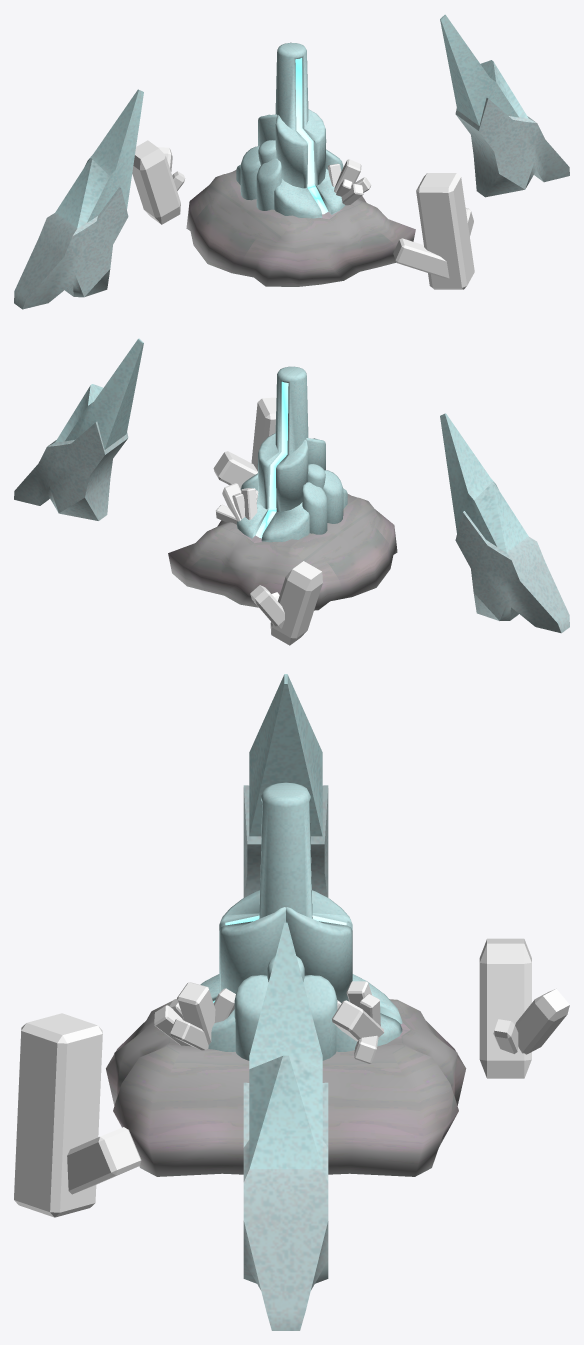
Rendered from JudgeShrine.fbx.
The picture shows the model from 3 angles, top to bottom: view 1: azimuth 30°, elevation 25°; view 2: azimuth 150°, elevation 25°; view 3: azimuth 270°, elevation 25°; orthographic projection. The views are drawn at different scales.
Parts seen in each view (by area): view 1: meshJudgeShrineProngs, meshJudgeShrineBase, meshJudgeShrine, meshJudgeShrineCrystals; view 2: meshJudgeShrineProngs, meshJudgeShrineBase, meshJudgeShrine, meshJudgeShrineCrystals; view 3: meshJudgeShrineProngs, meshJudgeShrineBase, meshJudgeShrineCrystals, meshJudgeShrine.
Boxes of the visible parts, x1,y1,x2,y2 form: meshJudgeShrineProngs: (14, 14, 569, 309); meshJudgeShrineBase: (186, 170, 415, 286); meshJudgeShrine: (236, 42, 345, 218); meshJudgeShrineCrystals: (132, 140, 474, 289); meshJudgeShrineProngs: (14, 338, 569, 633); meshJudgeShrineBase: (168, 494, 397, 610); meshJudgeShrine: (236, 366, 347, 542); meshJudgeShrineCrystals: (213, 397, 322, 645); meshJudgeShrineProngs: (243, 674, 328, 1330); meshJudgeShrineBase: (106, 999, 466, 1176); meshJudgeShrineCrystals: (14, 938, 569, 1217); meshJudgeShrine: (200, 782, 402, 1060).
Size of the model in its own units: 5.67 by 2.07 by 3.01.
Materials: 4 (3 with a texture image).
